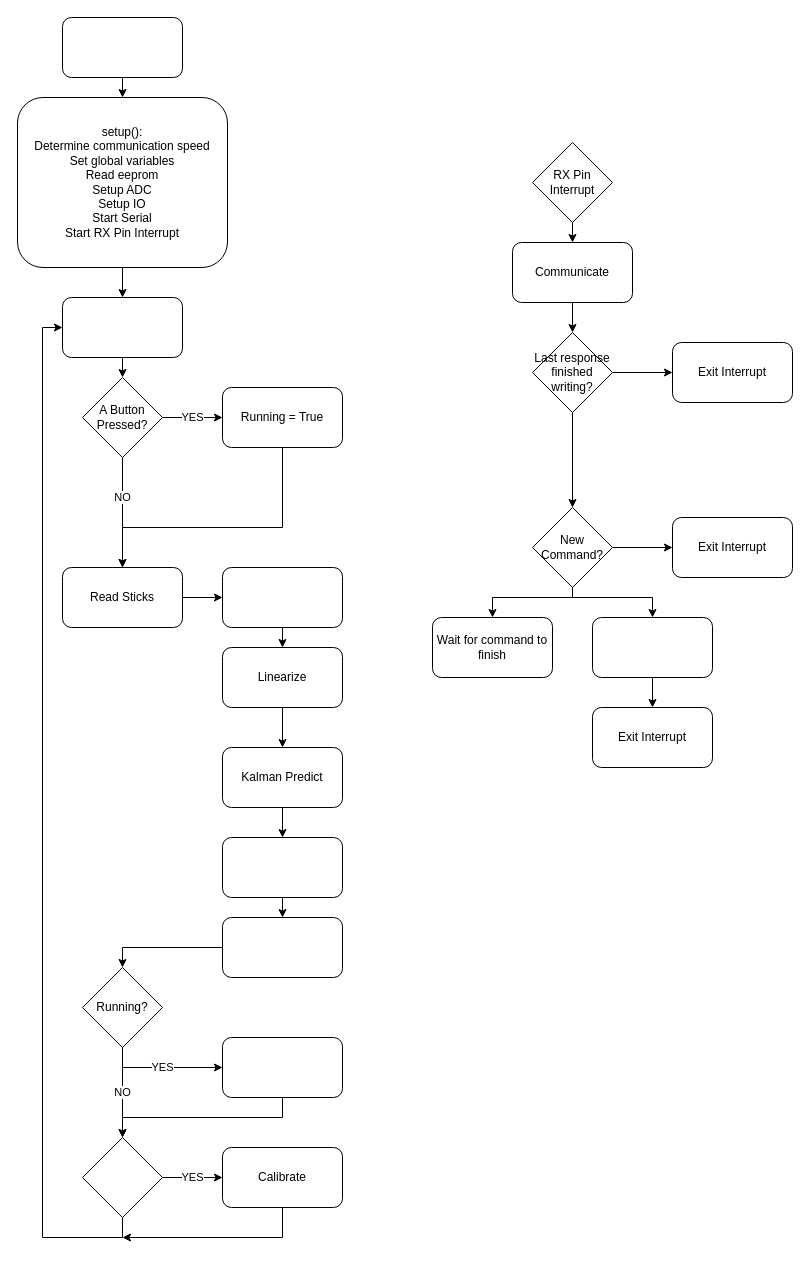
The diagram is 810 pixels wide and 1263 high, and some of its shapes have lost their labels. The shapes that lost their labels are listed below. From the top down, each one's centre as x and y in pixels, then its label:
the point at 122,47: Power On
the point at 122,327: Read Buttons
the point at 282,597: Read ADCs
the point at 652,647: Write Response
the point at 282,867: Kalman Update
the point at 282,947: Remap
the point at 282,1067: Prep Poll Response
the point at 122,1177: Calibrate Button?
